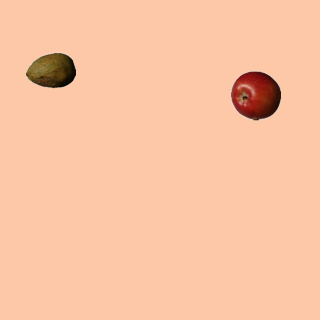Apple Braeburn: (230, 70, 280, 120)
Papaya: (25, 45, 75, 95)
